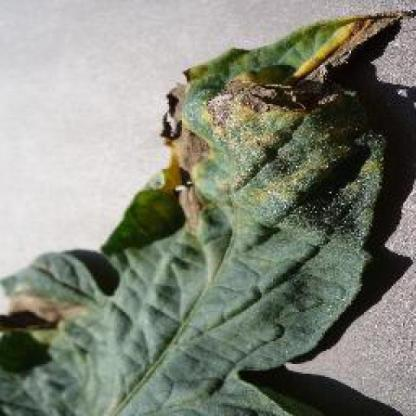Tomato_Blight: (0, 10, 387, 416), (57, 326, 72, 327)
